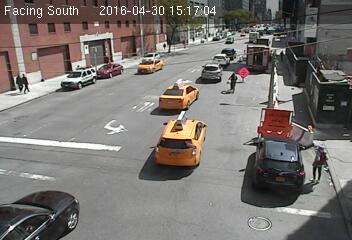neg: (116, 87, 133, 109), (36, 136, 50, 155), (177, 84, 191, 102), (100, 119, 113, 137)
pos: (300, 142, 335, 188), (7, 70, 25, 94), (223, 70, 241, 93), (15, 71, 31, 92), (278, 48, 288, 61)
